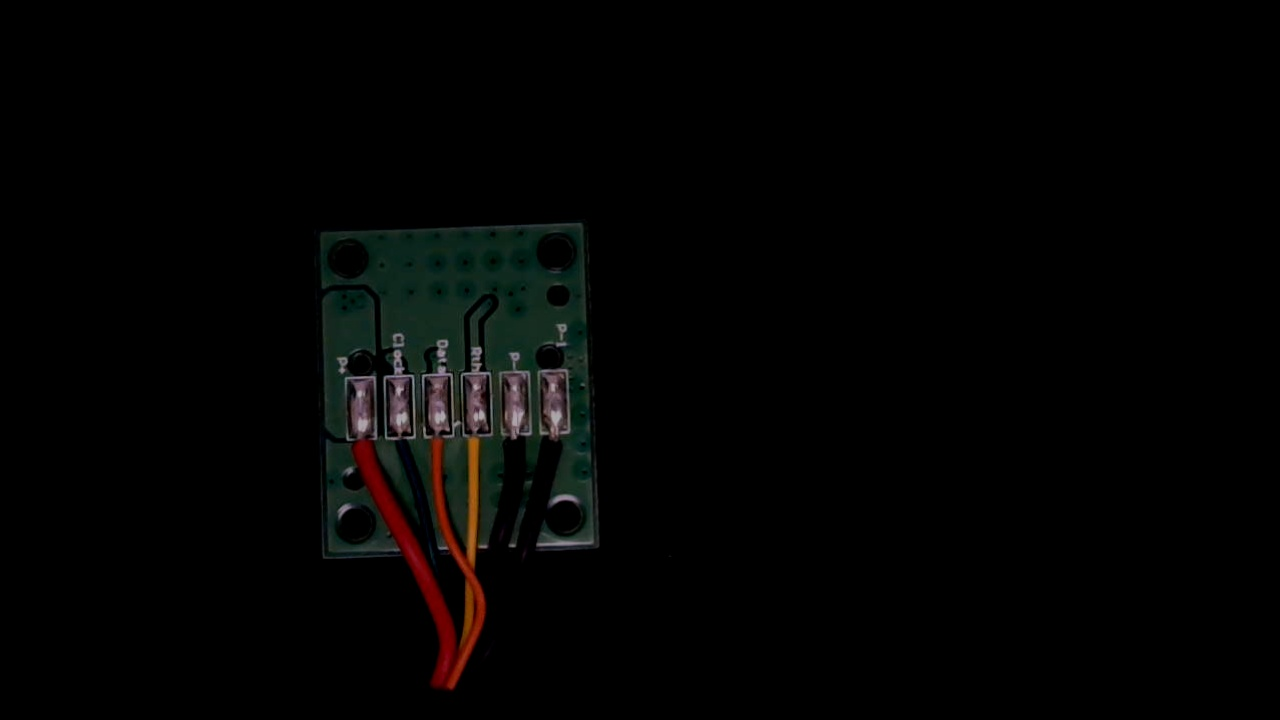Black: (502, 417, 531, 487)
Black1: (540, 419, 568, 477)
Green: (386, 419, 420, 489)
Orange: (425, 418, 457, 490)
Red: (347, 422, 381, 492)
Yellow: (464, 417, 492, 487)
